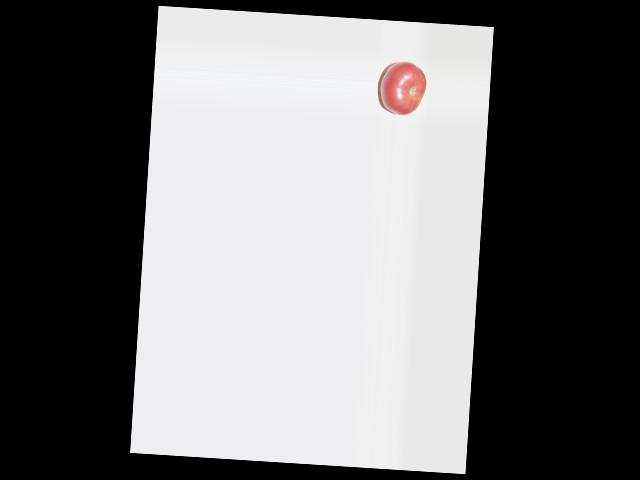tomato: (379, 59, 427, 116)
